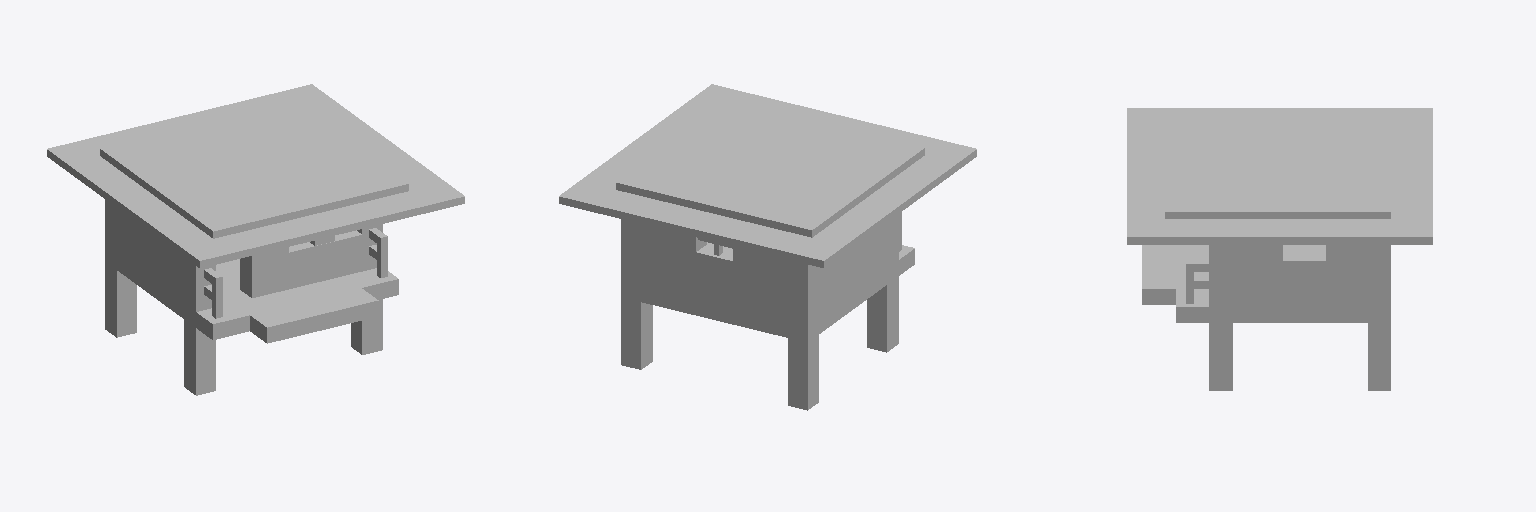
Rendered from witchhouse06.obj.
3 renders of one model, left to right at view 1: azimuth 30°, elevation 25°; view 2: azimuth 150°, elevation 25°; view 3: azimuth 270°, elevation 25°, orthographic.
Visible parts, largest first — view 1: pCube6, pCube7, pCube5, pCube9, pCube11, pCube12, pCube13, pCube14; view 2: pCube6, pCube7, pCube5, pCube11, pCube4, pCube9; view 3: pCube6, pCube7, pCube5, pCube12, pCube4, pCube14.
Part boxes in pixels (left/top/right/bottom): pCube6: left=100, top=101, right=408, bottom=238; pCube7: left=47, top=84, right=464, bottom=267; pCube5: left=117, top=208, right=398, bottom=343; pCube9: left=184, top=257, right=215, bottom=395; pCube11: left=105, top=199, right=136, bottom=337; pCube12: left=351, top=224, right=382, bottom=354; pCube13: left=204, top=268, right=222, bottom=318; pCube14: left=369, top=228, right=387, bottom=277; pCube6: left=616, top=100, right=924, bottom=237; pCube7: left=559, top=84, right=976, bottom=267; pCube5: left=641, top=223, right=914, bottom=337; pCube11: left=788, top=260, right=818, bottom=410; pCube4: left=621, top=219, right=652, bottom=369; pCube9: left=867, top=214, right=898, bottom=352; pCube6: left=1165, top=116, right=1390, bottom=218; pCube7: left=1127, top=108, right=1432, bottom=244; pCube5: left=1142, top=245, right=1367, bottom=322; pCube12: left=1209, top=245, right=1232, bottom=390; pCube4: left=1368, top=245, right=1390, bottom=390; pCube14: left=1186, top=261, right=1208, bottom=303.
Bounding box in the file's own units: 13.2 × 8.62 × 13.2.